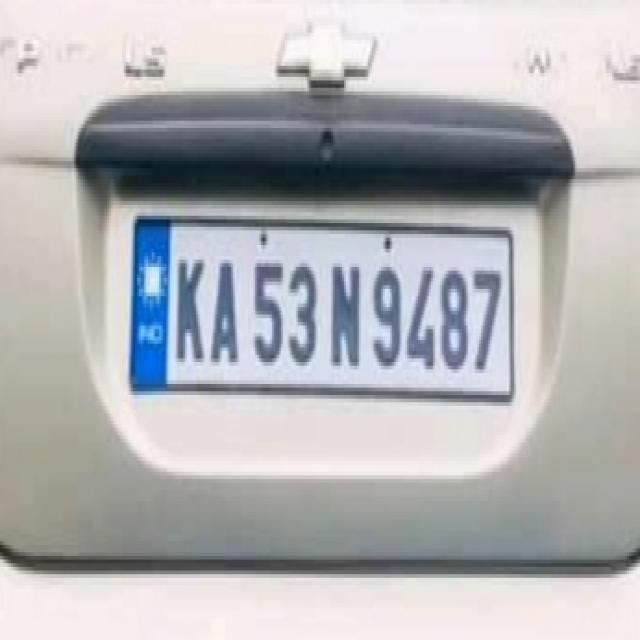3: (286, 249, 320, 372)
4: (405, 256, 439, 378)
5: (250, 248, 287, 372)
7: (470, 255, 505, 374)
8: (438, 260, 472, 382)
9: (370, 260, 404, 374)
A: (207, 246, 245, 374)
K: (172, 248, 210, 375)
N: (326, 252, 365, 382)
